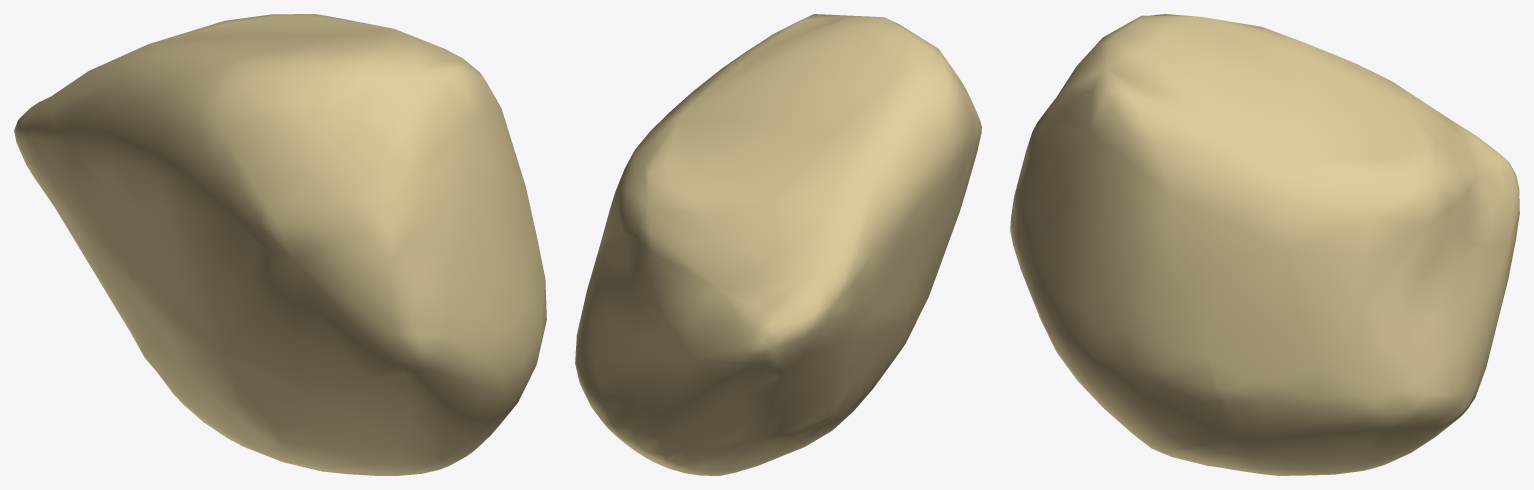
The picture shows the model from 3 angles, left to right: view 1: azimuth 30°, elevation 25°; view 2: azimuth 150°, elevation 25°; view 3: azimuth 270°, elevation 25°; orthographic projection. The views are drawn at different scales.
Parts seen in each view (by area): view 1: 左侧豌豆骨; view 2: 左侧豌豆骨; view 3: 左侧豌豆骨.
Part boxes in pixels (x1,y1,x2,y2): 左侧豌豆骨: [14, 14, 546, 475]; 左侧豌豆骨: [575, 14, 981, 475]; 左侧豌豆骨: [1010, 14, 1519, 475].
Bounding box in the file's own units: 0.0125 × 0.0154 × 0.0178.
